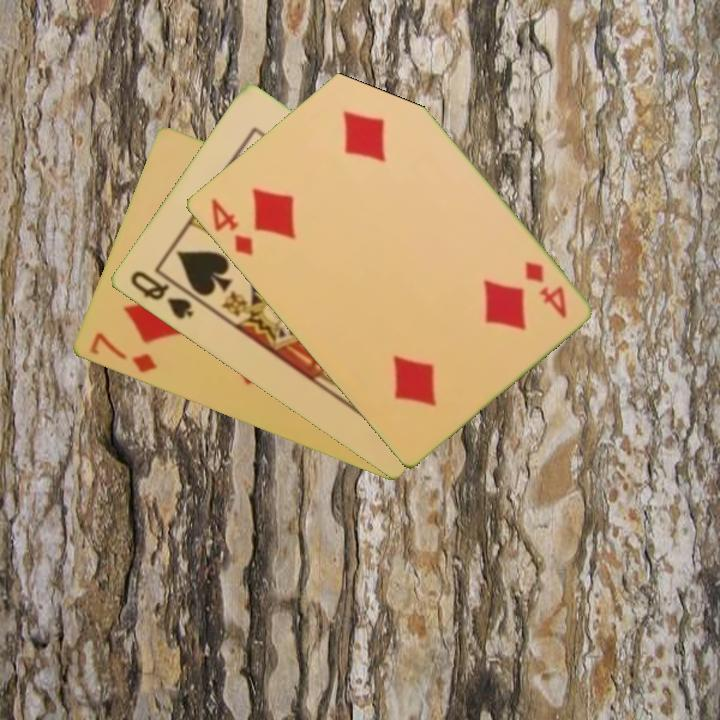4d: (207, 194, 256, 259), (520, 258, 569, 321)
7d: (86, 329, 159, 376)
Qs: (126, 267, 196, 323)
